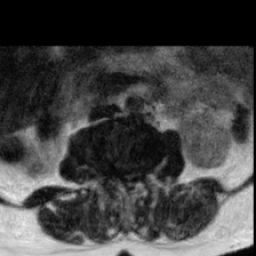CCS_severe_stenosis: (124, 167, 132, 192)
LFS_severe_stenosis: (140, 159, 148, 183)
LLS_severe_stenosis: (132, 166, 140, 186)
RFS_severe_stenosis: (108, 159, 116, 182)
RLS_severe_stenosis: (116, 164, 124, 186)
